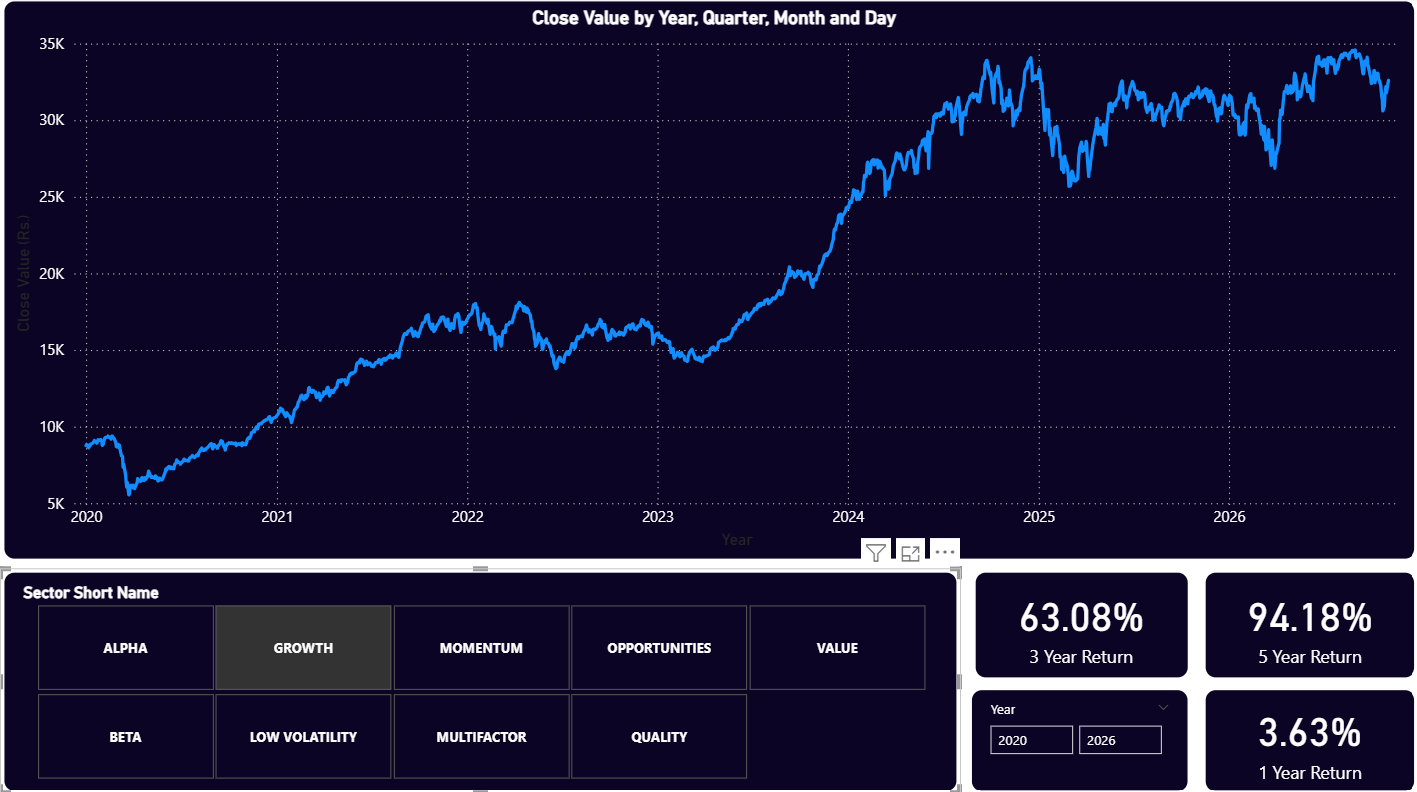

This screenshot's page, from the dashboard's own definition file:
{"tool":"powerbi","page":{"name":"Individual Report","canvas":[1280,720],"ordinal":1},"visuals":[{"type":"lineChart","title":" Close Value by Year, Quarter, Month and Day","fields":{"Category":["Date Table.Date.Variation.Date Hierarchy.Year","Date Table.Date.Variation.Date Hierarchy.Quarter","Date Table.Date.Variation.Date Hierarchy.Month","Date Table.Date.Variation.Date Hierarchy.Day"],"Y":["Max(Combine Data.Close)"]},"box":[0,0,1280.2,510.5],"z":0},{"type":"slicer","fields":{"Values":["Combine Data.Sector Short Name"]},"box":[0,515.1,866.3,204.7],"z":1000},{"type":"slicer","fields":{"Values":["Date Table.Year"]},"box":[872.1,620.9,202.3,98.8],"z":2000},{"type":"card","fields":{"Values":["Combine Data.3 Year Return"]},"box":[875.6,514.5,198.8,102.3],"z":3000},{"type":"card","fields":{"Values":["Combine Data.5 Year Return"]},"box":[1083.7,514.5,196.5,102.3],"z":4000},{"type":"card","fields":{"Values":["Combine Data.1 Year Return"]},"box":[1083.7,620.9,196.5,98.8],"z":5000}]}

Visuals, with their boxes in screenshot pixels (x1, y1, x2, y2), scaled from the page's 1280x720 canvas onto the 1417x792 screenshot:
" Close Value by Year, Quarter, Month and Day" lineChart: select_region(0, 0, 1416, 562)
slicer - Combine Data.Sector Short Name: select_region(0, 567, 959, 791)
slicer - Date Table.Year: select_region(965, 683, 1189, 791)
card - Combine Data.3 Year Return: select_region(969, 566, 1189, 678)
card - Combine Data.5 Year Return: select_region(1200, 566, 1416, 678)
card - Combine Data.1 Year Return: select_region(1200, 683, 1416, 791)
